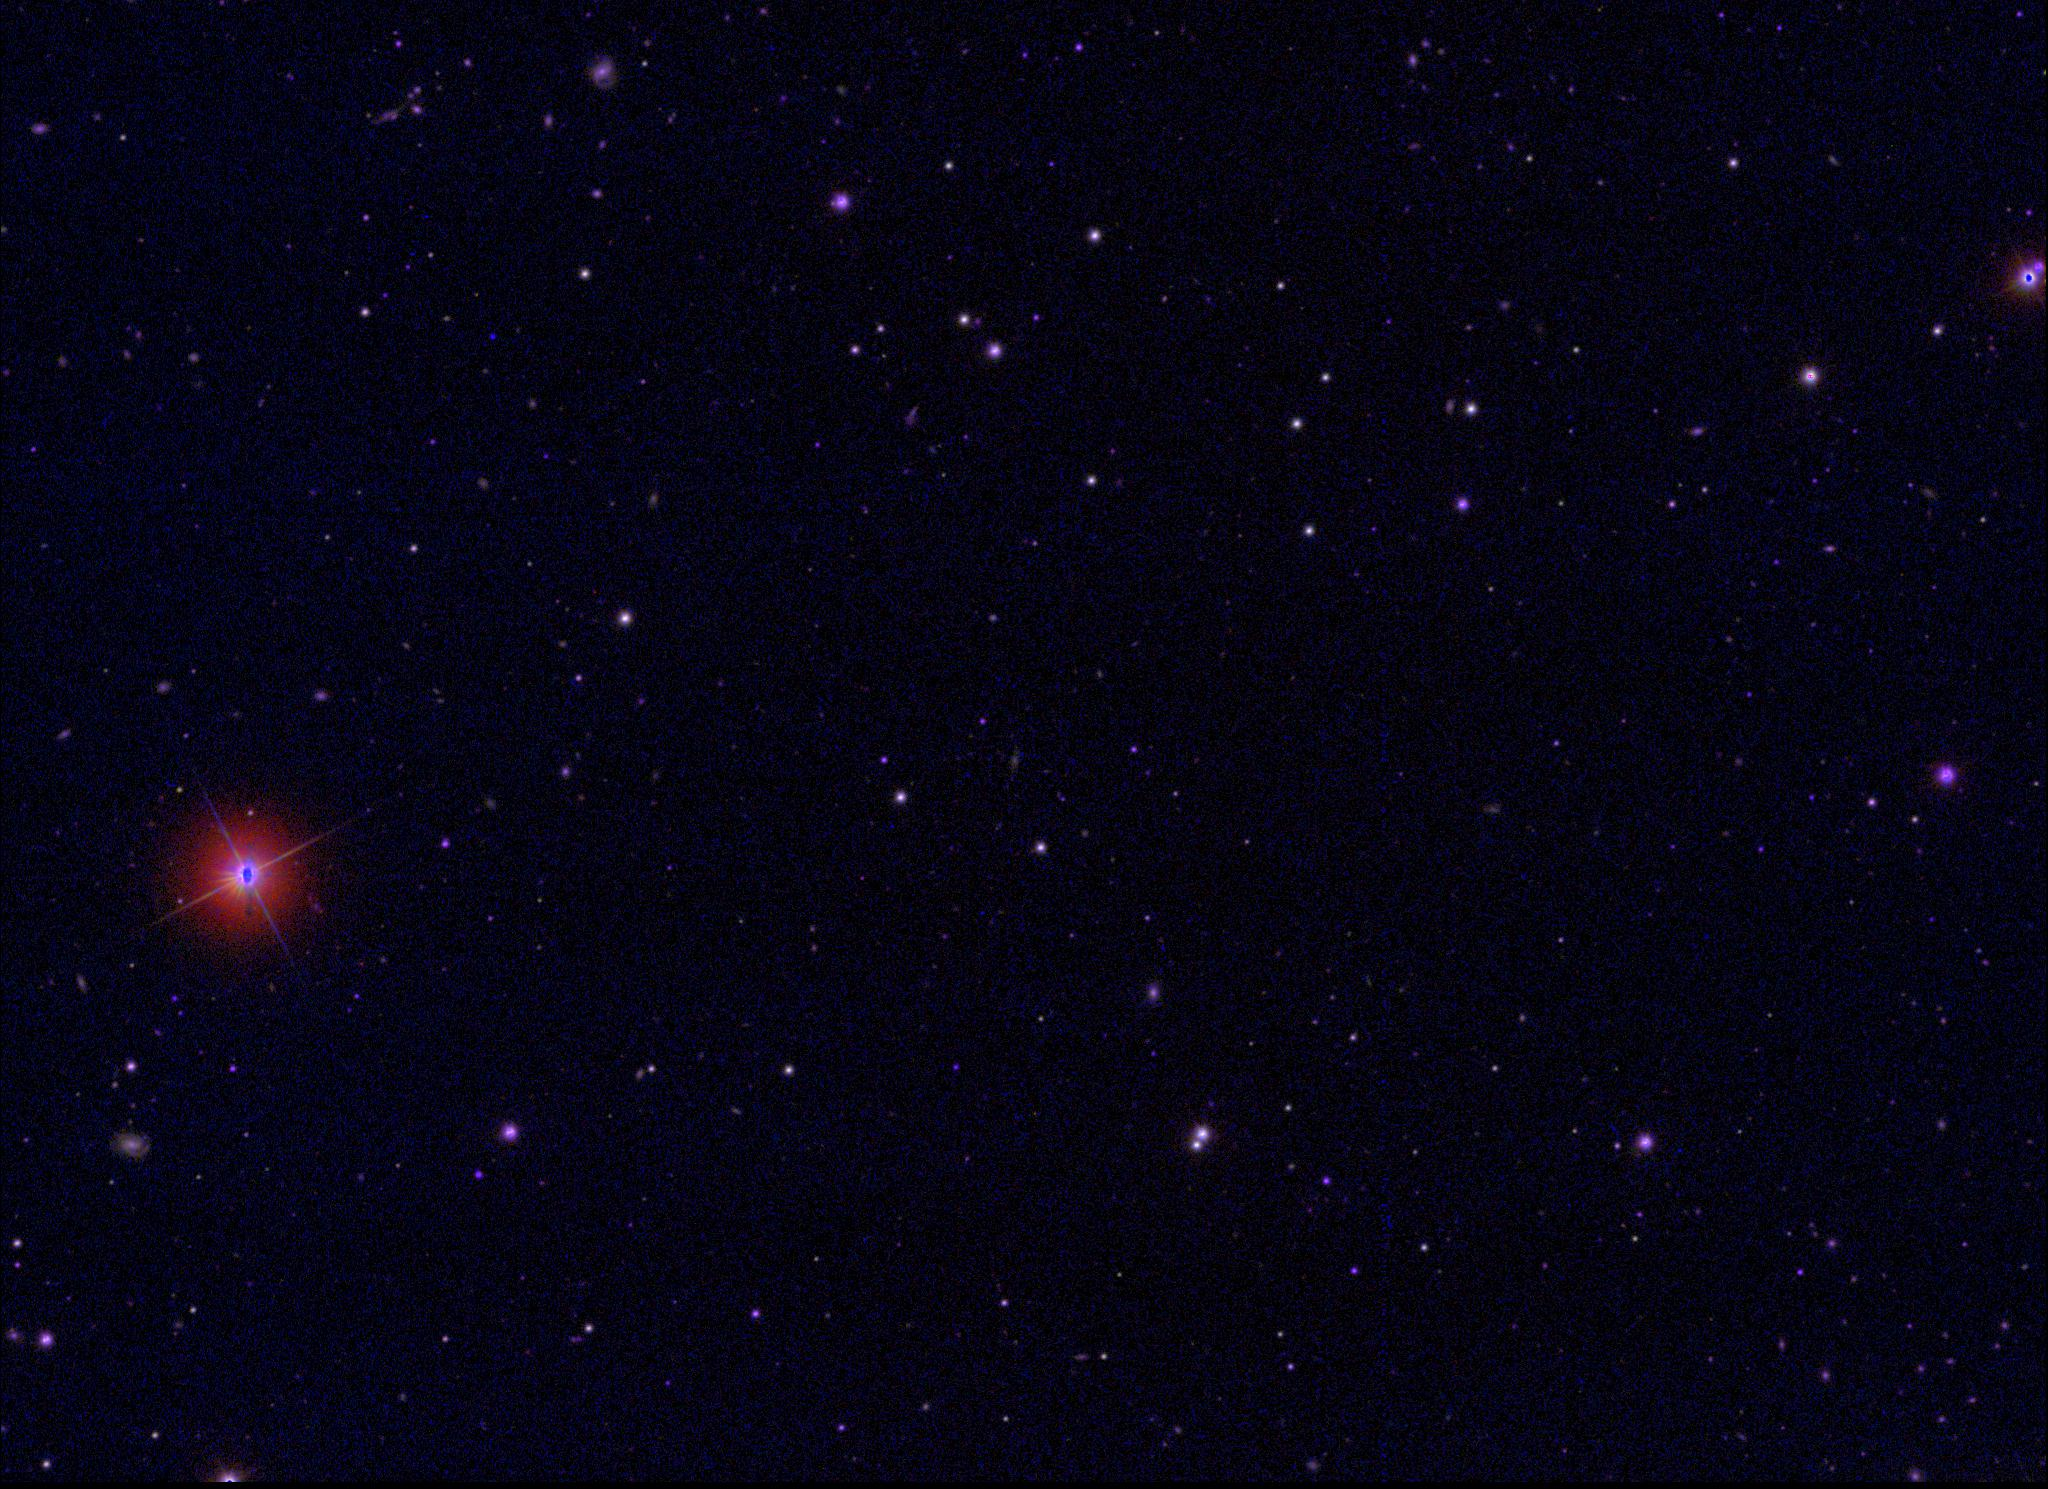L: (487, 329, 499, 344)
